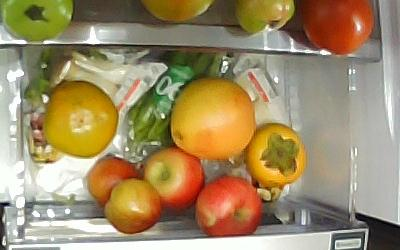apple: (194, 176, 264, 237), (143, 148, 205, 212)
grapefruit: (170, 75, 258, 162)
persimmon: (43, 80, 119, 160), (247, 122, 309, 189)
prune: (103, 177, 164, 235), (87, 156, 141, 206)
